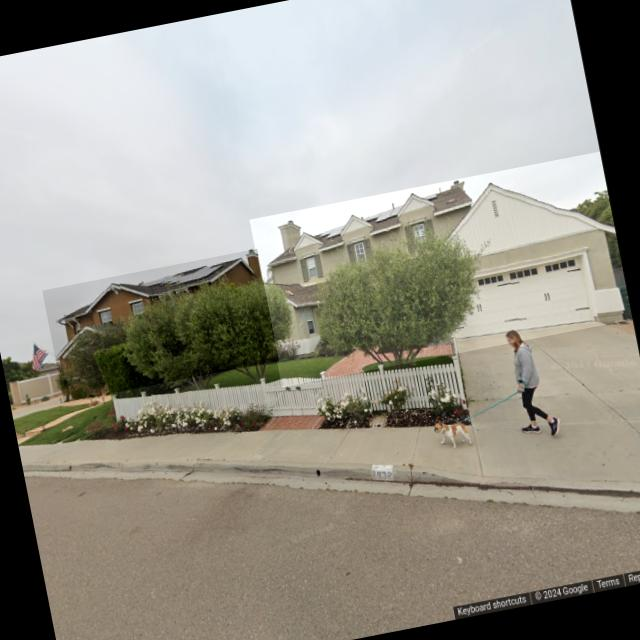House: (250, 152, 632, 388), (42, 248, 279, 402)
